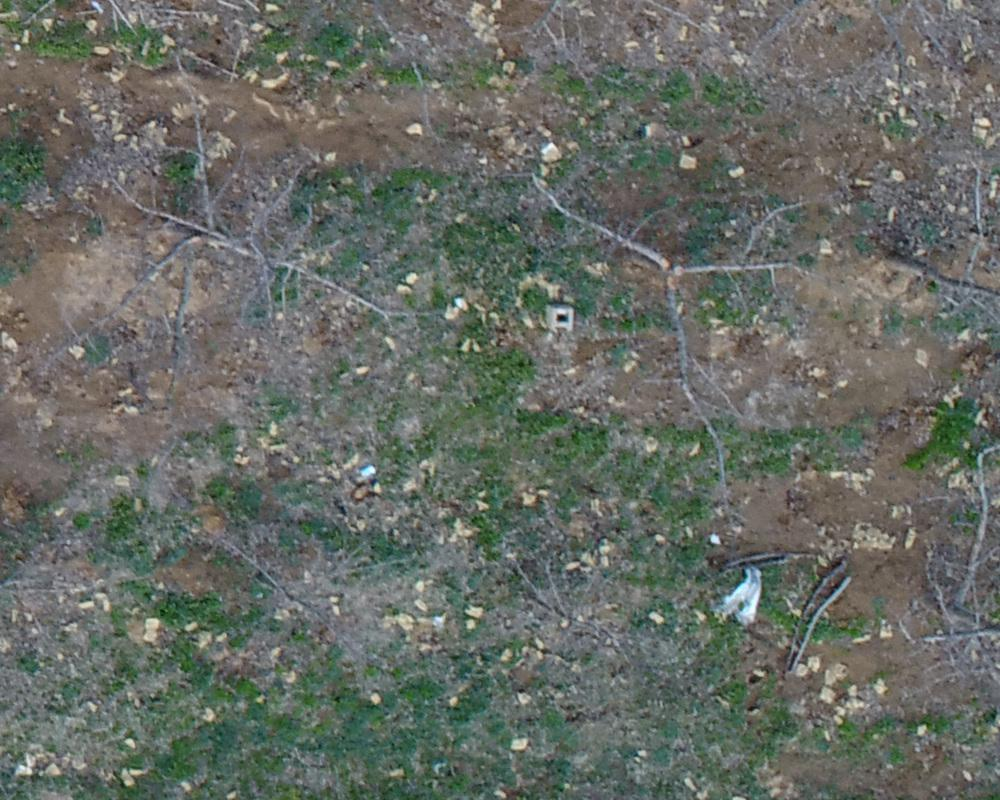apple: (521, 160, 830, 503), (101, 91, 412, 367), (886, 417, 990, 701), (852, 173, 990, 367)
